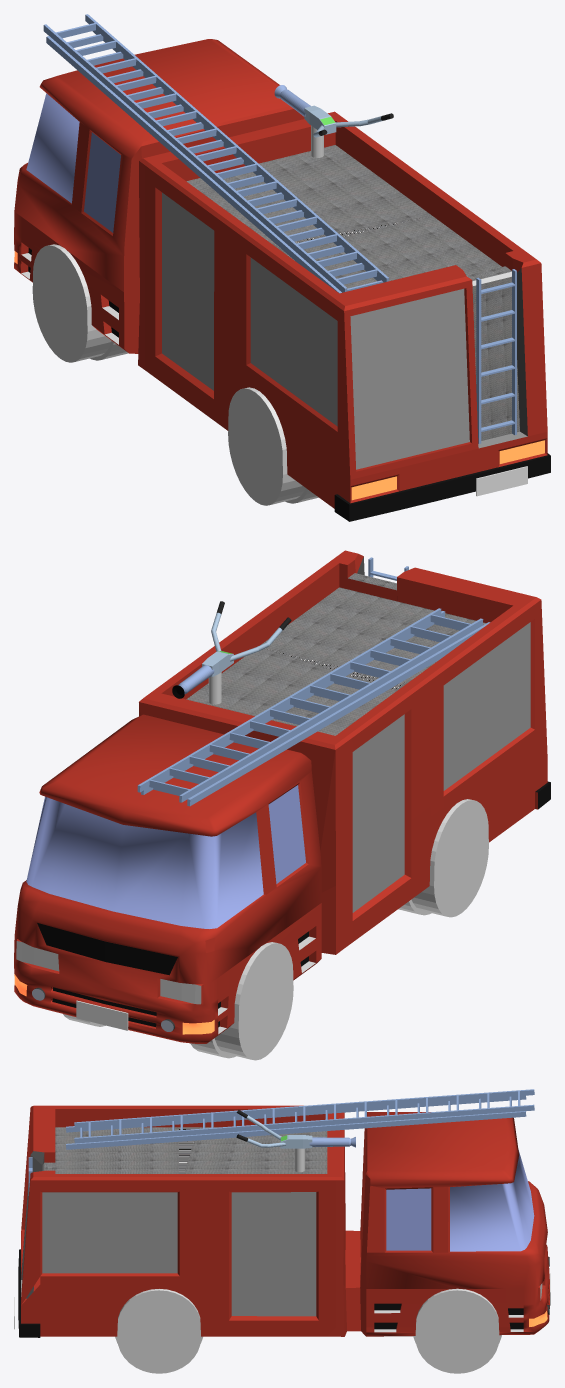
File: fire_engine_01_simple.fbx
3 views of the same model, one above another, from view 1: azimuth 30°, elevation 25°; view 2: azimuth 150°, elevation 25°; view 3: azimuth 270°, elevation 25° (orthographic). The views are drawn at different scales.
Visible parts, largest first — view 1: Car body, ladder.rail.002, ladder.rail.001, Wheel hole, Wheel hole.001, ladder.rail, registration plate.back; view 2: Car body, ladder.rail.002, Wheel hole, Wheel hole.001, ladder.rail.001, registration plate.front, Cylinder.002; view 3: Car body, ladder.rail.002, Wheel hole, Wheel hole.001, ladder.rail.001, Cylinder.002, Cylinder, Cube.
Boxes of the visible parts, x1=… form: Car body: x1=14, y1=39, x2=550, y2=521; ladder.rail.002: x1=43, y1=14, x2=389, y2=292; ladder.rail.001: x1=46, y1=30, x2=383, y2=293; Wheel hole: x1=32, y1=244, x2=128, y2=362; Wheel hole.001: x1=228, y1=387, x2=318, y2=505; ladder.rail: x1=476, y1=269, x2=516, y2=443; registration plate.back: x1=476, y1=466, x2=527, y2=496; Car body: x1=14, y1=550, x2=550, y2=1043; ladder.rail.002: x1=137, y1=608, x2=483, y2=802; Wheel hole: x1=45, y1=942, x2=293, y2=1060; Wheel hole.001: x1=398, y1=799, x2=488, y2=917; ladder.rail.001: x1=141, y1=611, x2=490, y2=806; registration plate.front: x1=76, y1=1000, x2=128, y2=1030; Cylinder.002: x1=211, y1=601, x2=291, y2=661; Car body: x1=18, y1=1105, x2=549, y2=1337; ladder.rail.002: x1=74, y1=1089, x2=534, y2=1143; Wheel hole: x1=413, y1=1288, x2=501, y2=1373; Wheel hole.001: x1=115, y1=1289, x2=202, y2=1373; ladder.rail.001: x1=66, y1=1095, x2=526, y2=1149; Cylinder.002: x1=236, y1=1109, x2=286, y2=1147; Cylinder: x1=309, y1=1137, x2=355, y2=1147; Cube: x1=280, y1=1135, x2=312, y2=1148.
Bounding box in the file's own units: 209 × 299 × 619.
